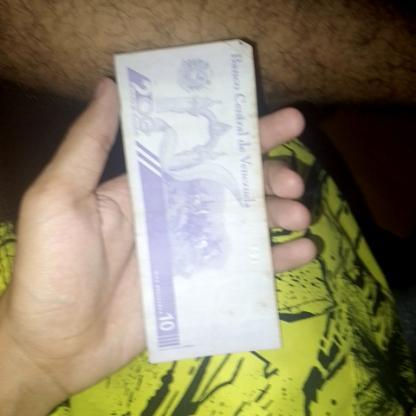ten-back-vef: (114, 39, 277, 365)
